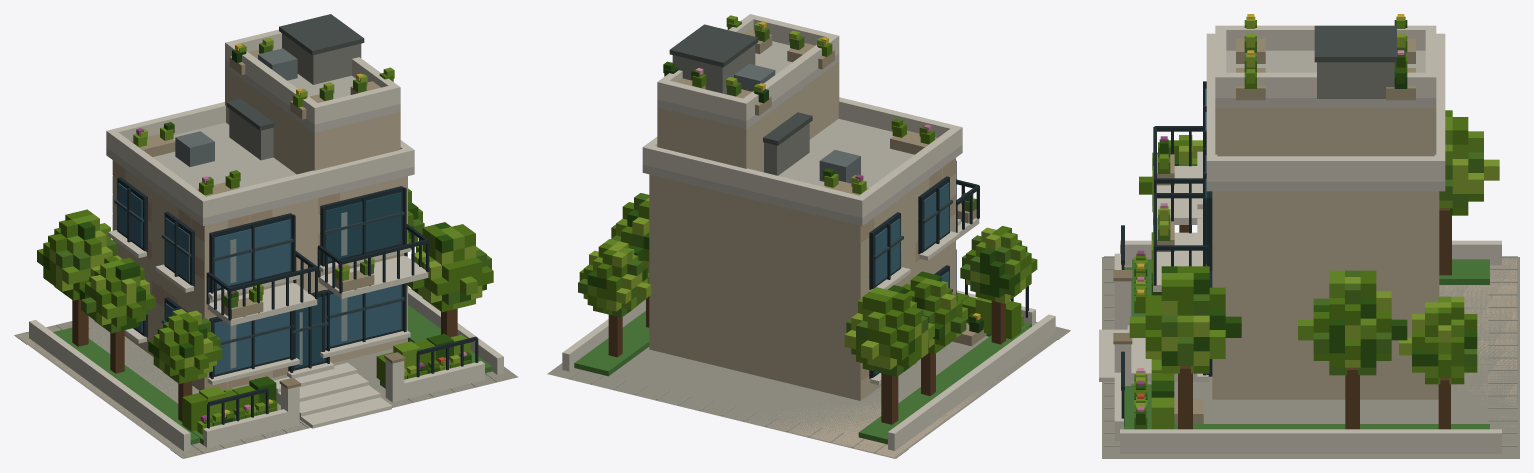
File: SM_Mapa_017.fbx
3 views of the same model, side by side, from view 1: azimuth 30°, elevation 25°; view 2: azimuth 150°, elevation 25°; view 3: azimuth 270°, elevation 25° (orthographic). The views are drawn at different scales.
Parts seen in each view (by area): view 1: SM_Mapa_017; view 2: SM_Mapa_017; view 3: SM_Mapa_017.
Boxes of the visible parts, left/top/right/bottom form: SM_Mapa_017: left=14, top=14, right=518, bottom=458; SM_Mapa_017: left=547, top=14, right=1070, bottom=458; SM_Mapa_017: left=1099, top=14, right=1519, bottom=458.
Size of the model in its own units: 8 by 6.96 by 6.59.
